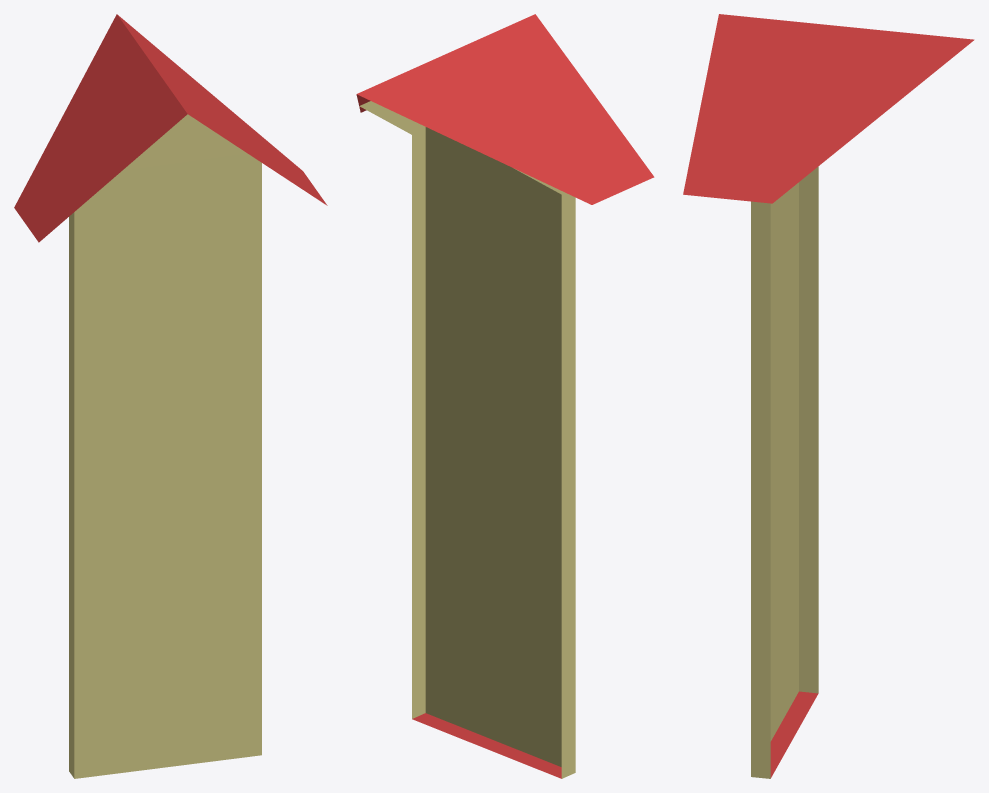
3 renders of one model, left to right at view 1: azimuth 30°, elevation 25°; view 2: azimuth 150°, elevation 25°; view 3: azimuth 270°, elevation 25°, orthographic. The views are drawn at different scales.
Visible parts, largest first — view 1: group_5, group_3, group_4; view 2: group_5, group_3, group_4, group_6; view 3: group_5, group_3, group_6, group_4.
Part boxes in pixels (left/top/right/bottom): group_5: left=69, top=114, right=261, bottom=778; group_3: left=14, top=14, right=327, bottom=242; group_4: left=16, top=117, right=295, bottom=242; group_5: left=359, top=101, right=575, bottom=778; group_3: left=356, top=14, right=654, bottom=204; group_4: left=360, top=16, right=651, bottom=203; group_6: left=412, top=713, right=561, bottom=778; group_5: left=751, top=166, right=818, bottom=778; group_3: left=683, top=14, right=974, bottom=203; group_6: left=770, top=691, right=818, bottom=778; group_4: left=752, top=136, right=843, bottom=201.
Size of the model in its own units: 5.91 by 5.18 by 14.02.
